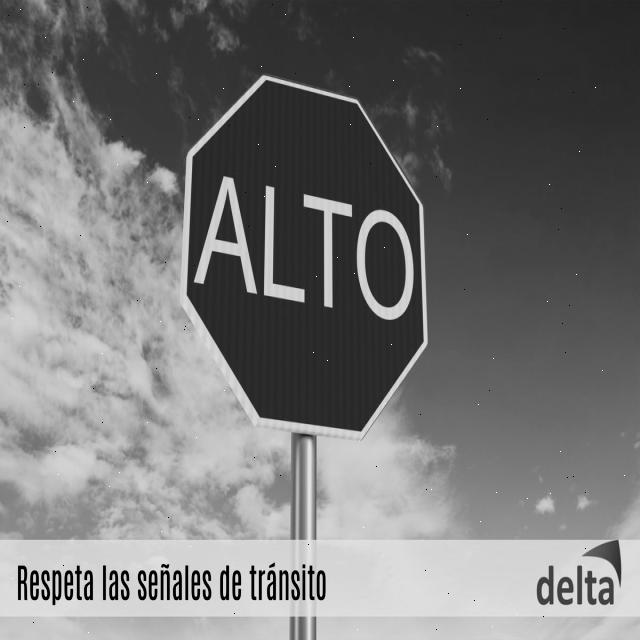Stop-sign: (176, 47, 434, 464)
